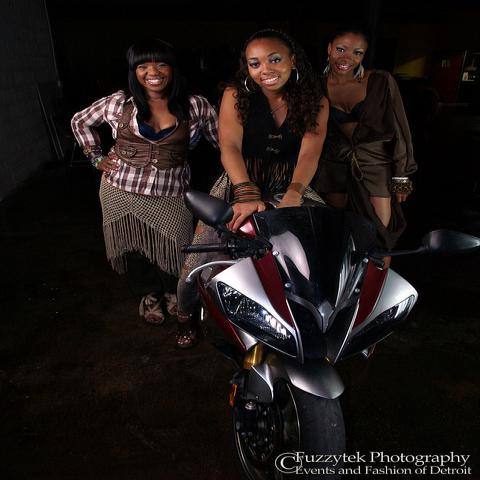motorcycle: (177, 190, 420, 476)
